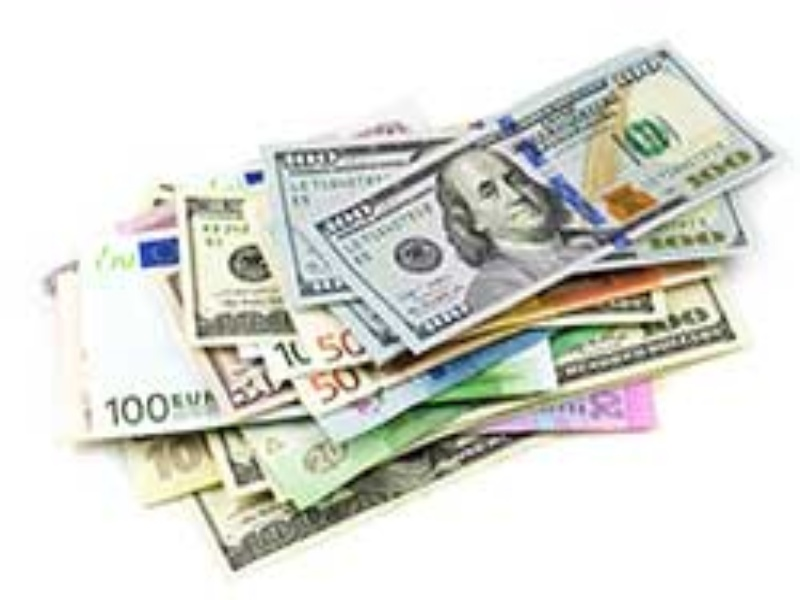cash: (32, 40, 780, 573)
